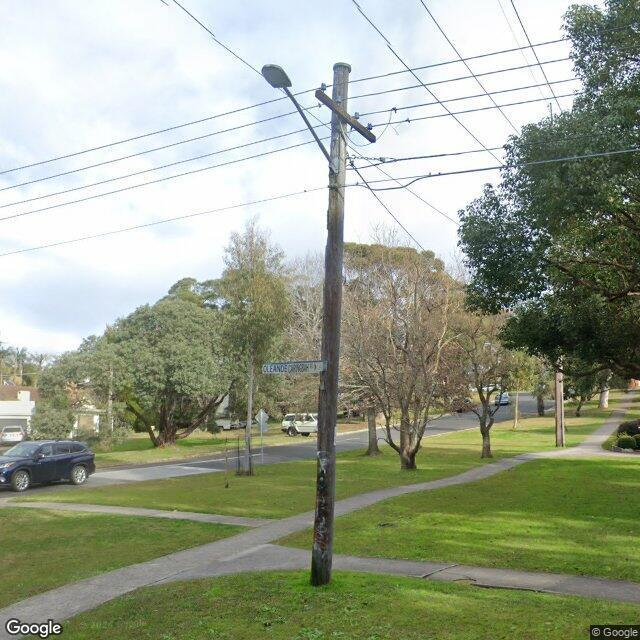crossarm: (315, 90, 377, 146)
streetlight: (262, 60, 336, 170)
timber-pole: (309, 61, 352, 584), (555, 349, 566, 447)
